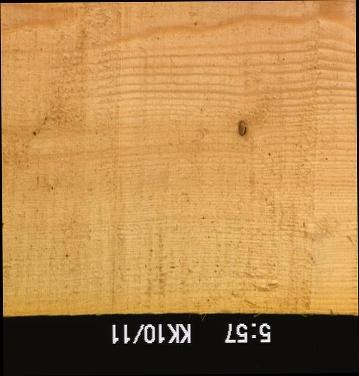dry_knot: (236, 118, 247, 138)
small_knot: (29, 128, 39, 139)
